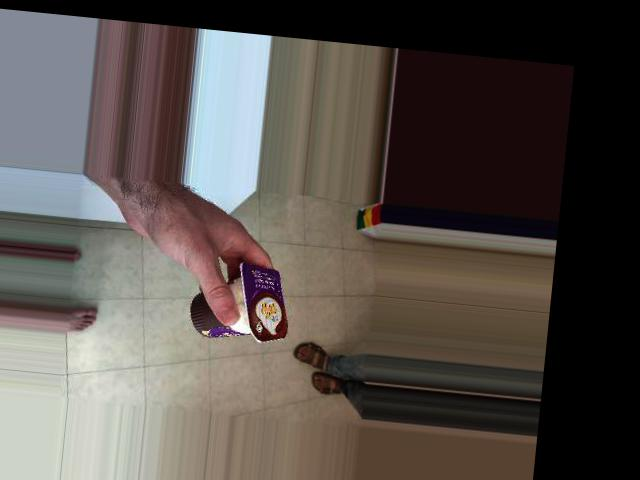milky: (181, 261, 300, 344)
